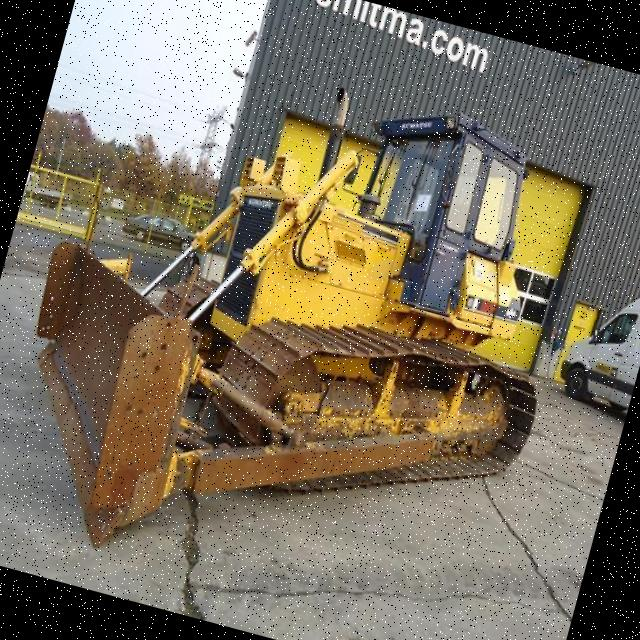Bulldozer: (0, 5, 607, 640)
